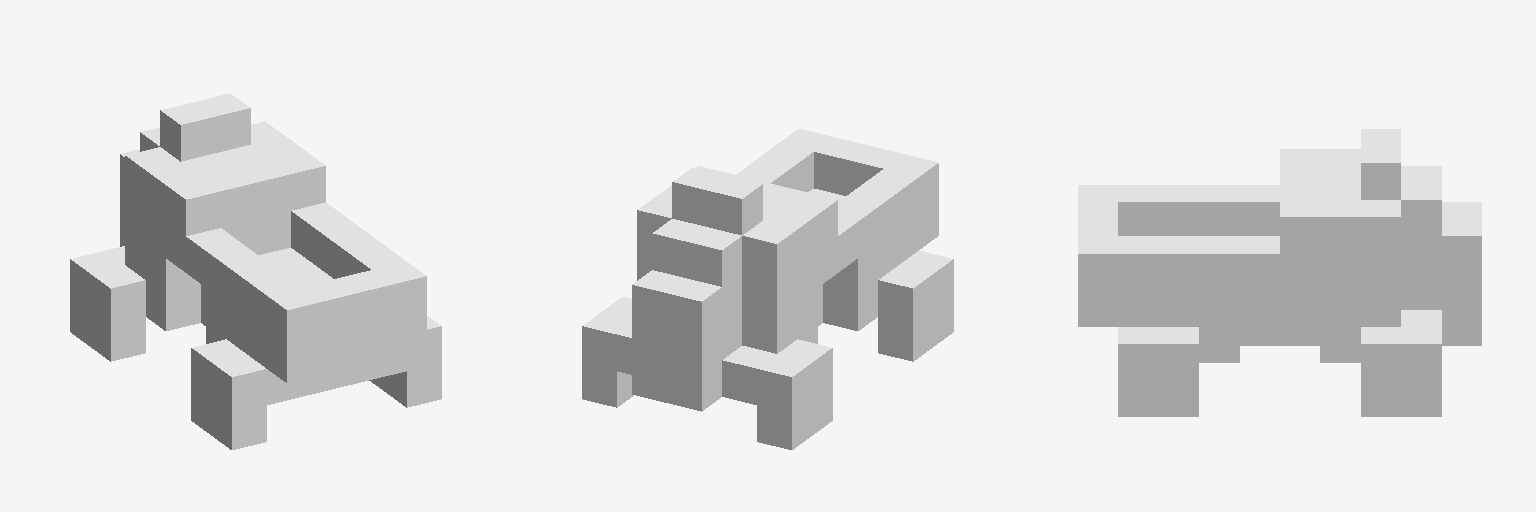
Rendered from truck.obj.
The picture shows the model from 3 angles: view 1: azimuth 30°, elevation 25°; view 2: azimuth 150°, elevation 25°; view 3: azimuth 270°, elevation 25°; orthographic projection.
Bounding box in the file's own units: 6 × 6 × 10.